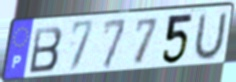5: (161, 12, 197, 66)
7: (65, 18, 95, 76), (101, 16, 128, 72), (134, 15, 159, 68)
B: (27, 25, 64, 76)
U: (191, 10, 229, 64)
